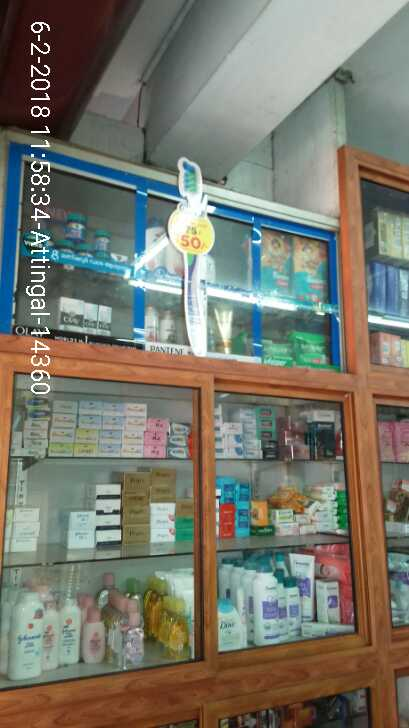vicks: (57, 208, 130, 268)
